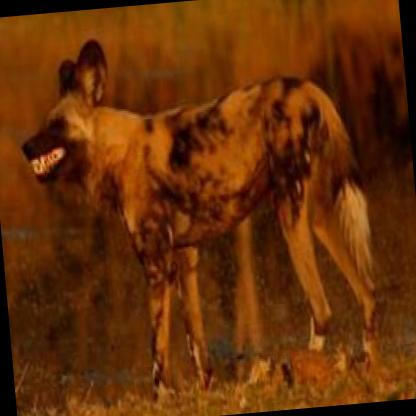African_hunting_dog: (9, 7, 383, 410)
